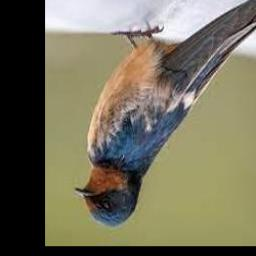Swallow: (76, 0, 256, 229)
